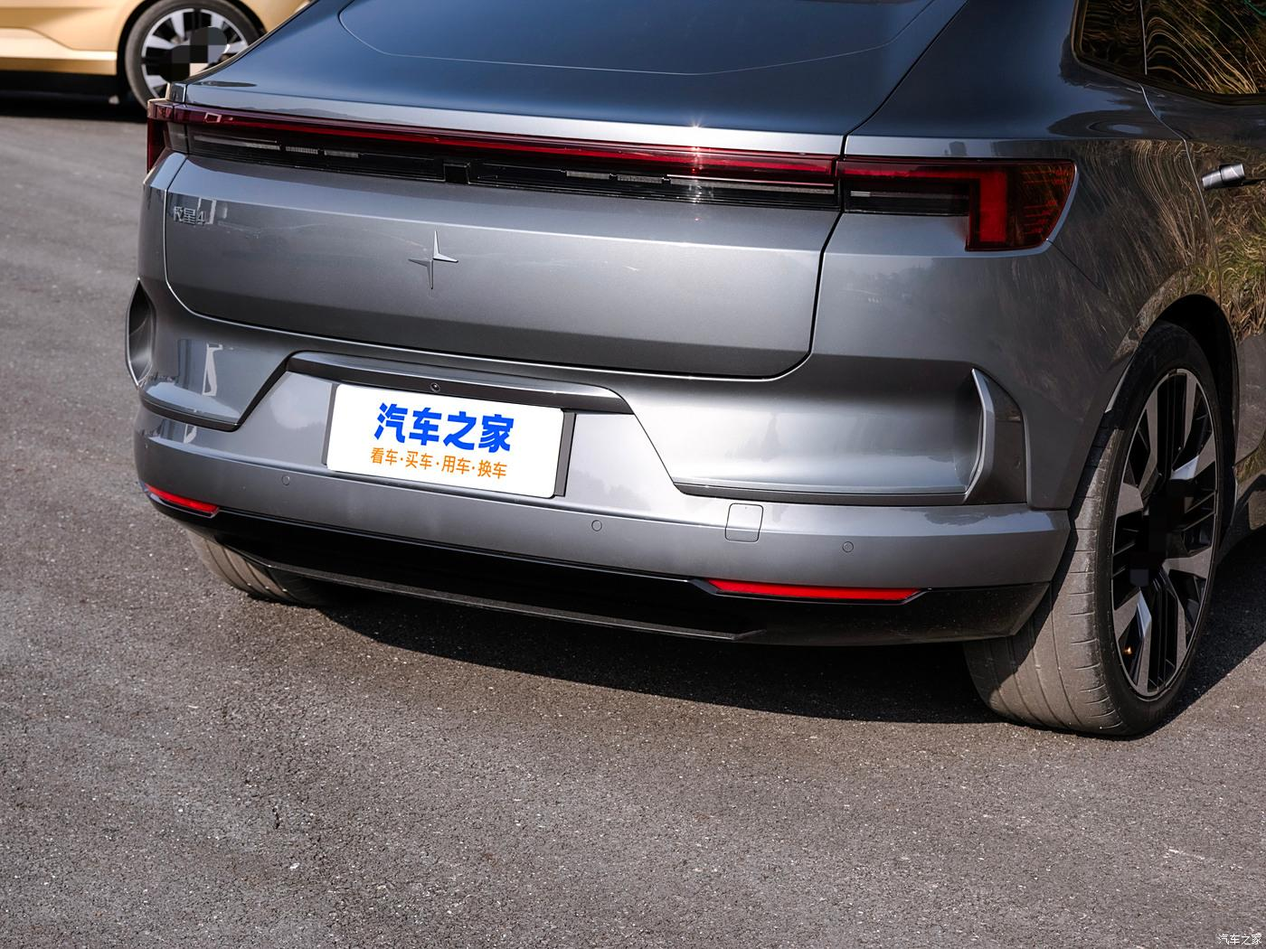Polestar: (409, 230, 458, 288)
